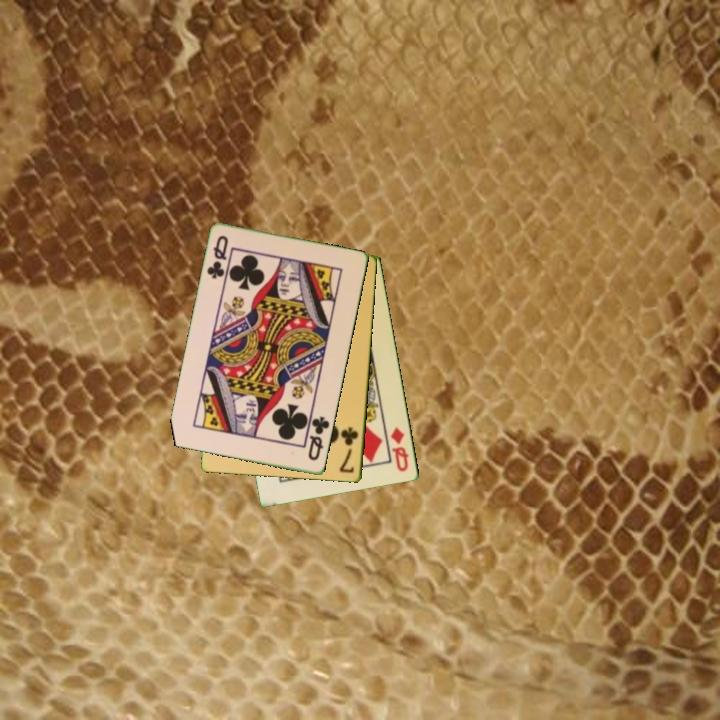7c: (336, 424, 361, 476)
Qc: (305, 413, 333, 464), (203, 232, 231, 282)
Qd: (388, 424, 412, 475)
